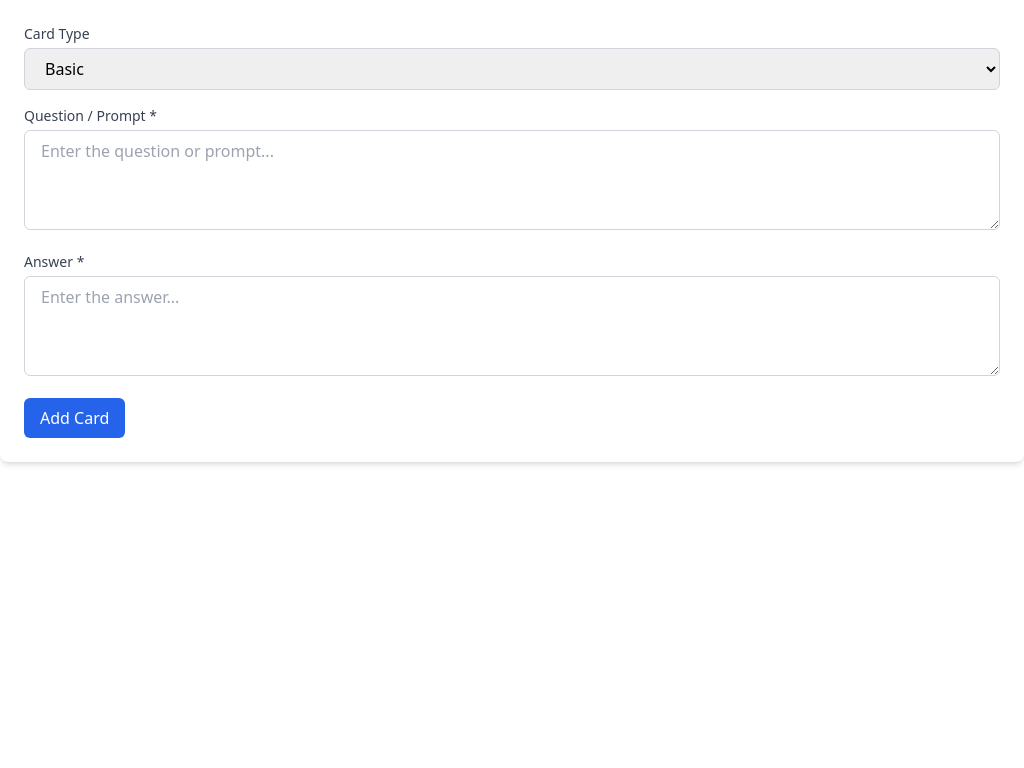
Test: CreateCardForm › should display error message on failure
This screenshot has width=1024, height=768.
Type "Question" into the text box labelled "Question / Prompt *" at point(512, 180), box [24,130,1000,230]
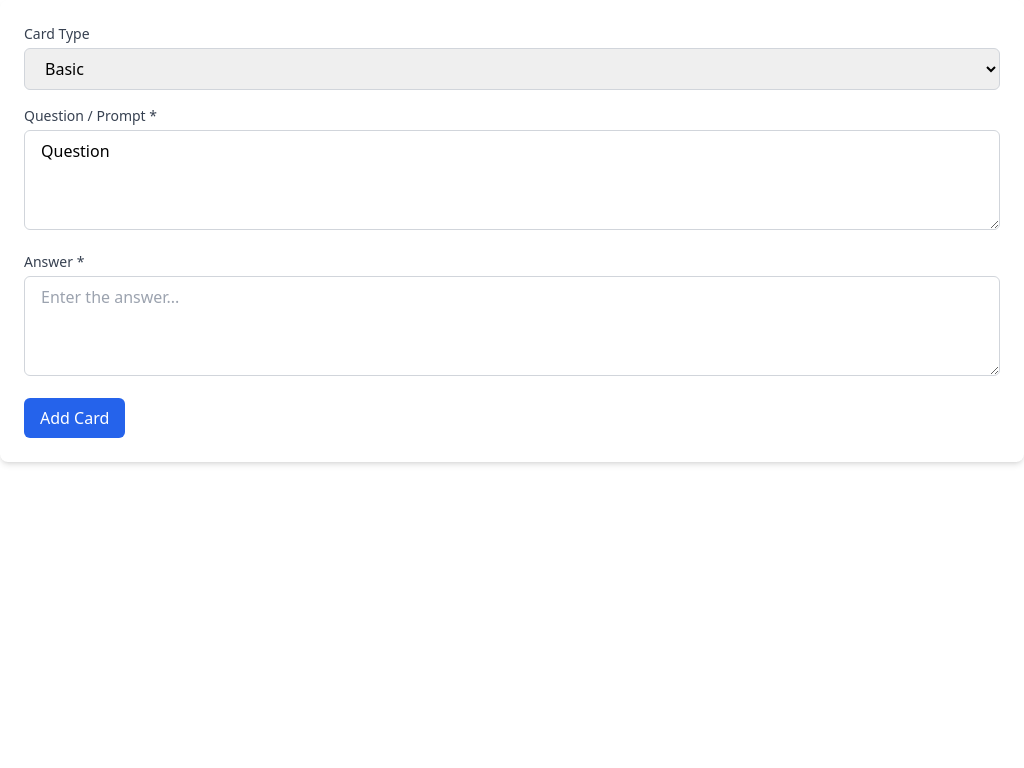
Type "Answer" into the text box labelled "Answer *" at point(512, 326), box [24,276,1000,376]
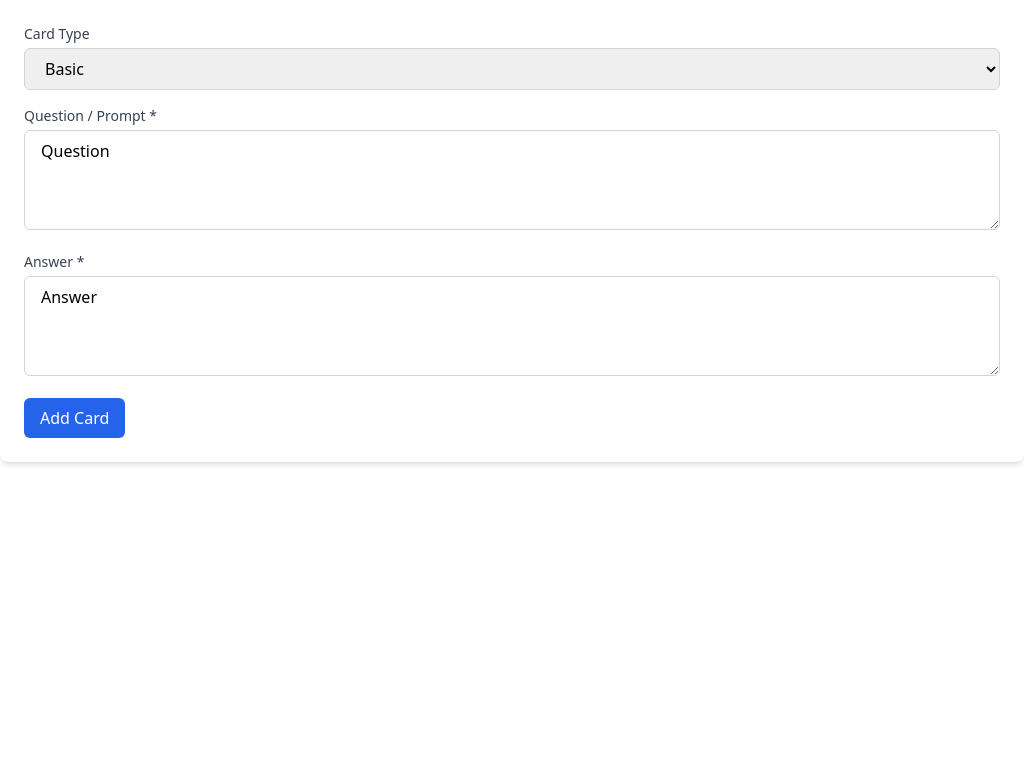
Click the button "Add Card" at point(75, 418), box [24,398,125,438]
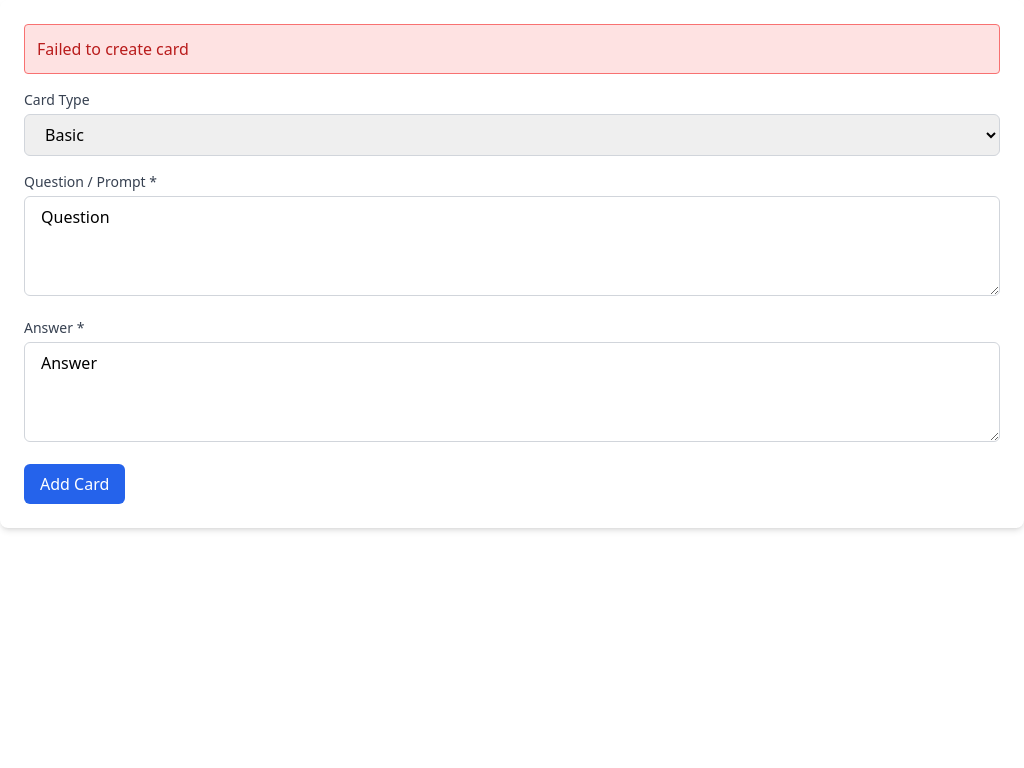
Check: the text "Failed to create card" is shown, box [24,24,1000,74]
